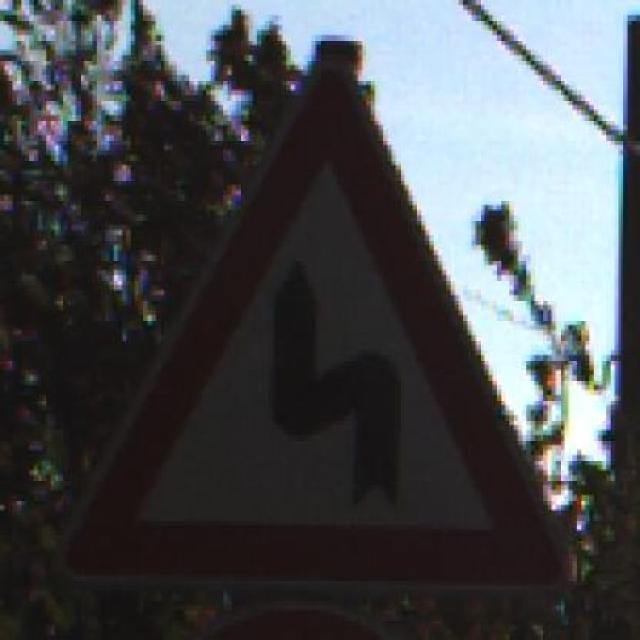Left Zig Zag Traffic: (46, 25, 586, 600)
